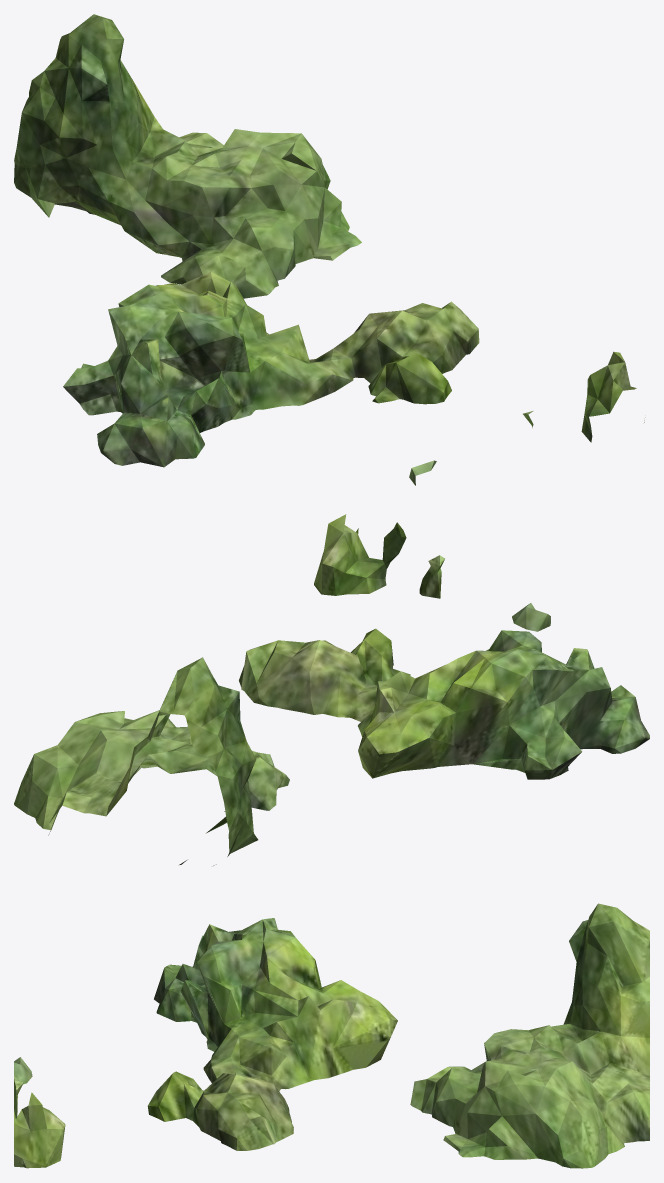
The picture shows the model from 3 angles, top to bottom: view 1: azimuth 30°, elevation 25°; view 2: azimuth 150°, elevation 25°; view 3: azimuth 270°, elevation 25°; orthographic projection. The views are drawn at different scales.
Size of the model in its own units: 17.94 by 8.1 by 26.11.
1 material, 1 textured.
